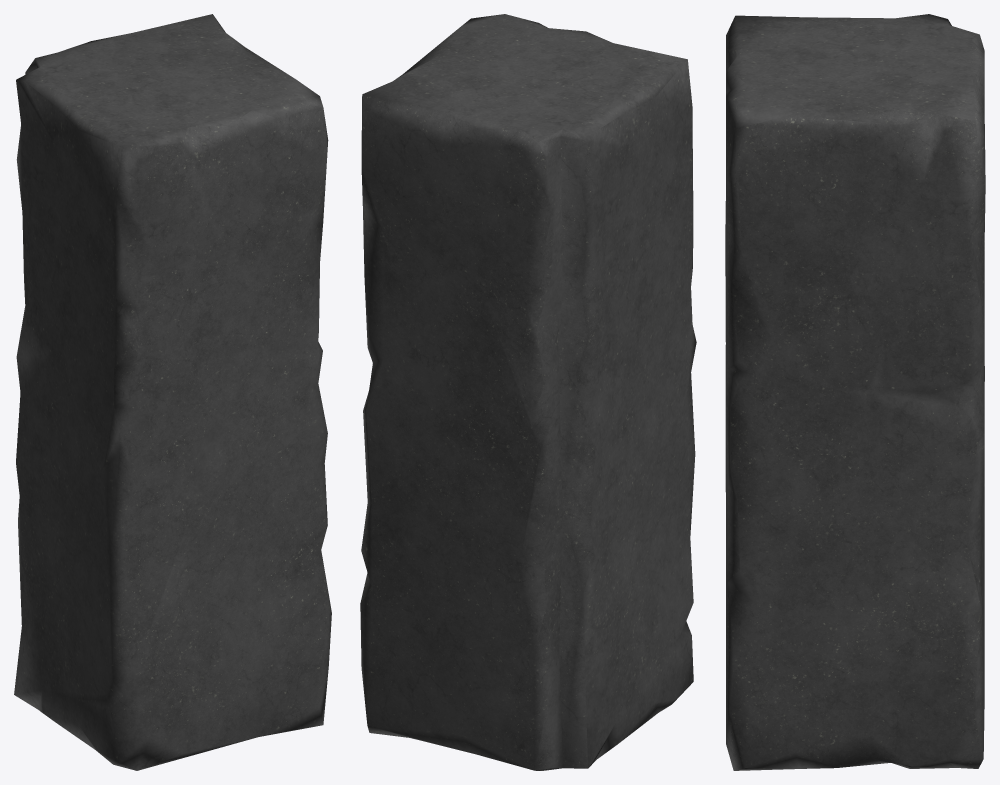
Rendered from SM_ColumnSegmentChiselled3.fbx.
3 views of the same model, side by side, from view 1: azimuth 30°, elevation 25°; view 2: azimuth 150°, elevation 25°; view 3: azimuth 270°, elevation 25° (orthographic). The views are drawn at different scales.
Visible parts, largest first — view 1: SM_ColumnSegmentChiselled3_LOD0; view 2: SM_ColumnSegmentChiselled3_LOD0; view 3: SM_ColumnSegmentChiselled3_LOD0.
Boxes of the visible parts, x1,y1,x2,y2 form: SM_ColumnSegmentChiselled3_LOD0: (14,14,331,770); SM_ColumnSegmentChiselled3_LOD0: (360,14,696,770); SM_ColumnSegmentChiselled3_LOD0: (725,14,985,770).
Bounding box in the file's own units: 85.3 × 84.56 × 235.
1 material, 1 textured.
